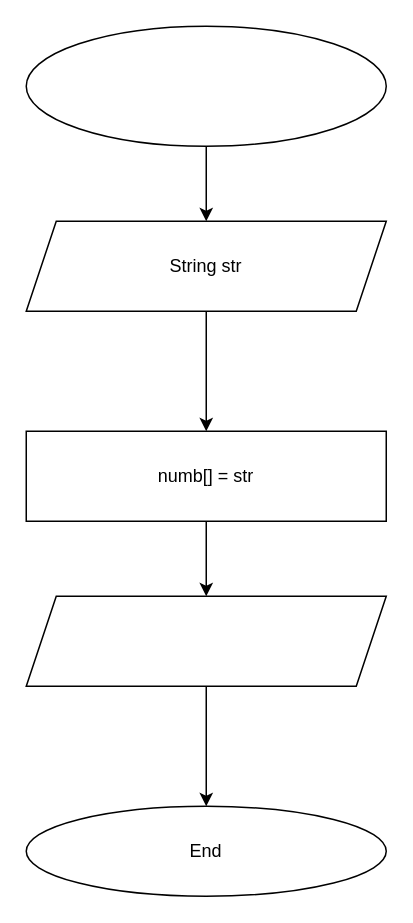
Some shapes in this 413 by 923 pixel diagram are drawn without their labels. The shapes that lost their labels are listed below. From the top down, each one's box as (x1, y1, x2, y2) in pixels, then its label:
(25, 25, 386, 146): Start
(25, 595, 386, 686): numb[1]
